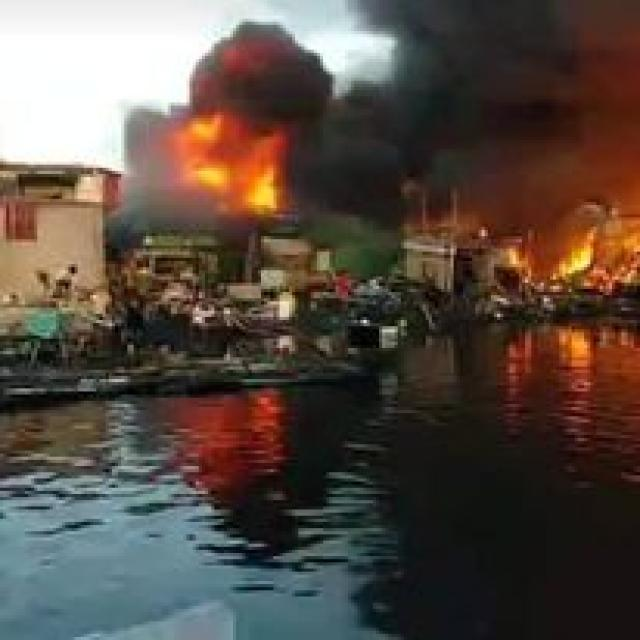Fire: (179, 121, 286, 210)
Smoke: (365, 0, 640, 212), (247, 25, 385, 216), (125, 108, 198, 225)
